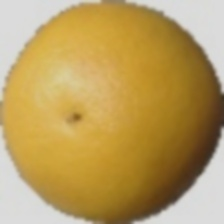grapes: (49, 23, 214, 163)
